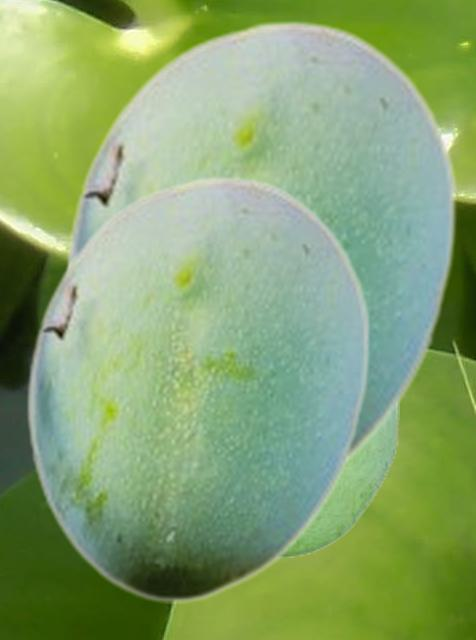green_mango: (64, 19, 457, 470), (25, 175, 370, 602), (67, 247, 398, 556)
